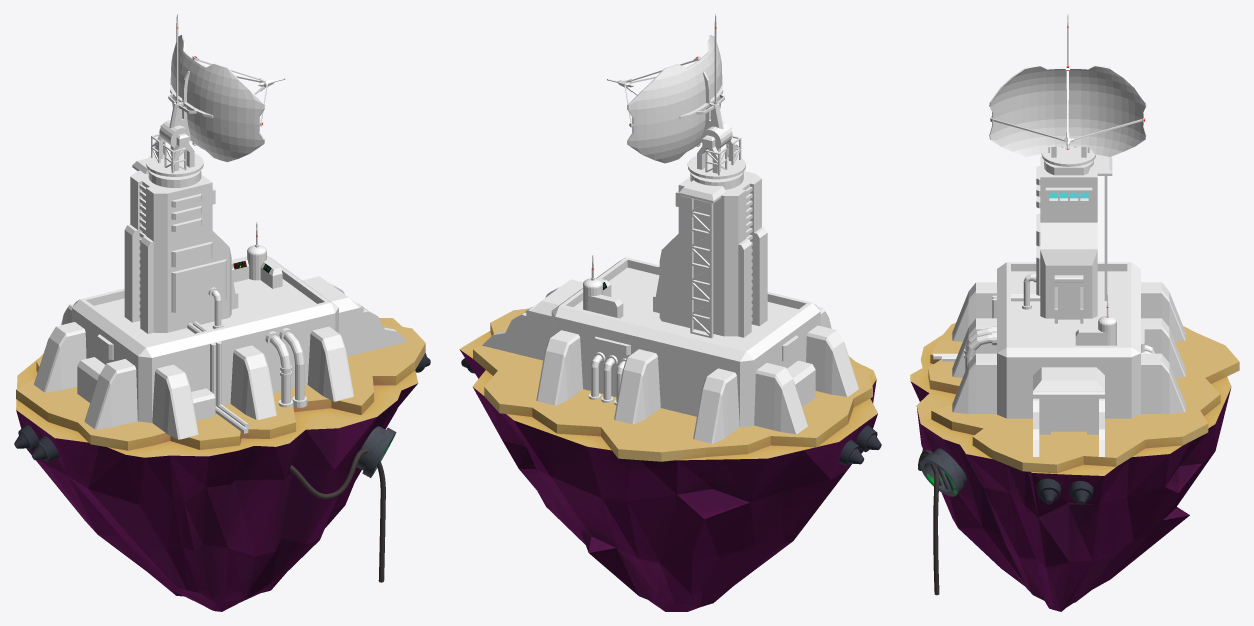
Rendered from cyberpunk-bar-1.glb.
3 renders of one model, left to right at view 1: azimuth 30°, elevation 25°; view 2: azimuth 150°, elevation 25°; view 3: azimuth 270°, elevation 25°, orthographic. The views are drawn at different scales.
Visible parts, largest first — view 1: Radar_building_, Object_20, Radar_)))_radar, Object_21, Engine_=__radar, Object_10; view 2: Object_20, Radar_building_, Radar_)))_radar, Engine_=__radar, Object_21; view 3: Object_20, Radar_building_, Radar_)))_radar, Object_21, Engine_=__radar, Object_10.
Boxes of the visible parts, x1,y1,x2,y2 form: Radar_building_: (34,158,407,439); Object_20: (16,309,425,611); Radar_)))_radar: (159,14,284,162); Object_21: (14,353,430,477); Engine_=__radar: (146,124,203,176); Object_10: (289,448,385,582); Object_20: (459,308,877,611); Radar_building_: (482,171,858,443); Radar_)))_radar: (607,14,732,163); Engine_=__radar: (687,126,745,179); Object_21: (461,358,881,466); Object_20: (910,323,1239,611); Radar_building_: (933,155,1185,456); Radar_)))_radar: (989,14,1146,156); Object_21: (920,448,1093,505); Engine_=__radar: (1041,146,1095,166); Object_10: (918,449,939,595).
Size of the model in its own units: 1.64 by 2.36 by 1.25.
7 materials, 2 textured.
